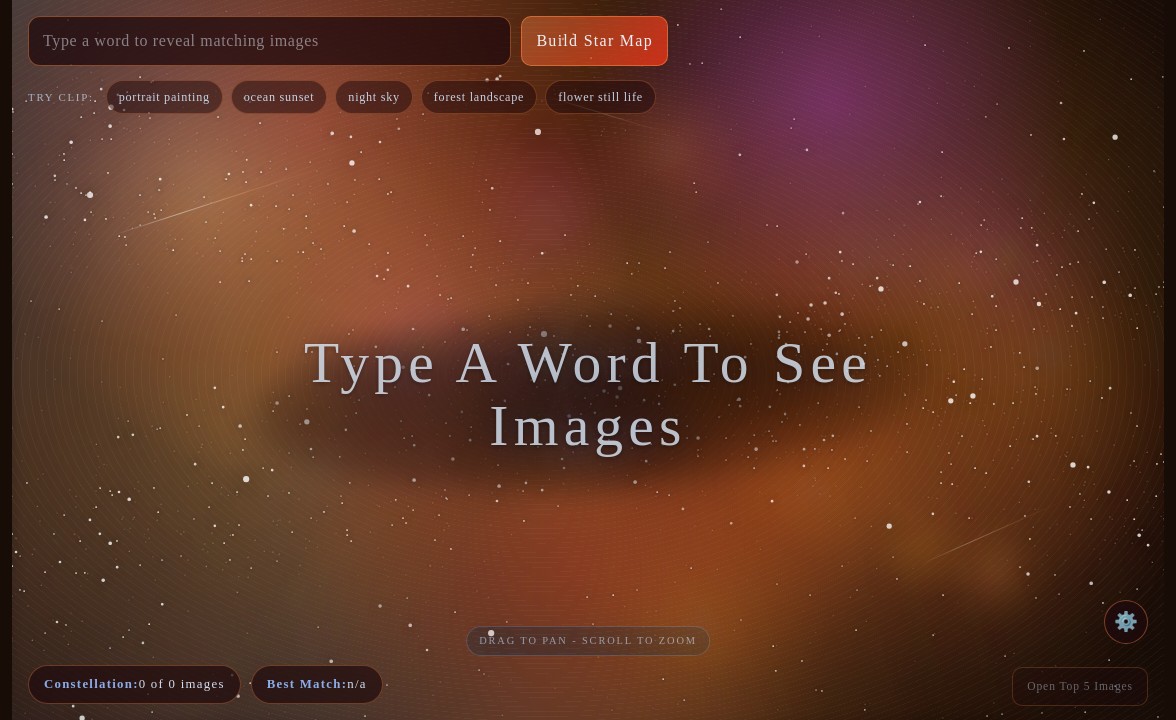
Test: StarView interactions › runs a suggested CLIP prompt from the atlas controls
Click the button "ocean sunset".
click(279, 97)  # box [231, 80, 327, 114]
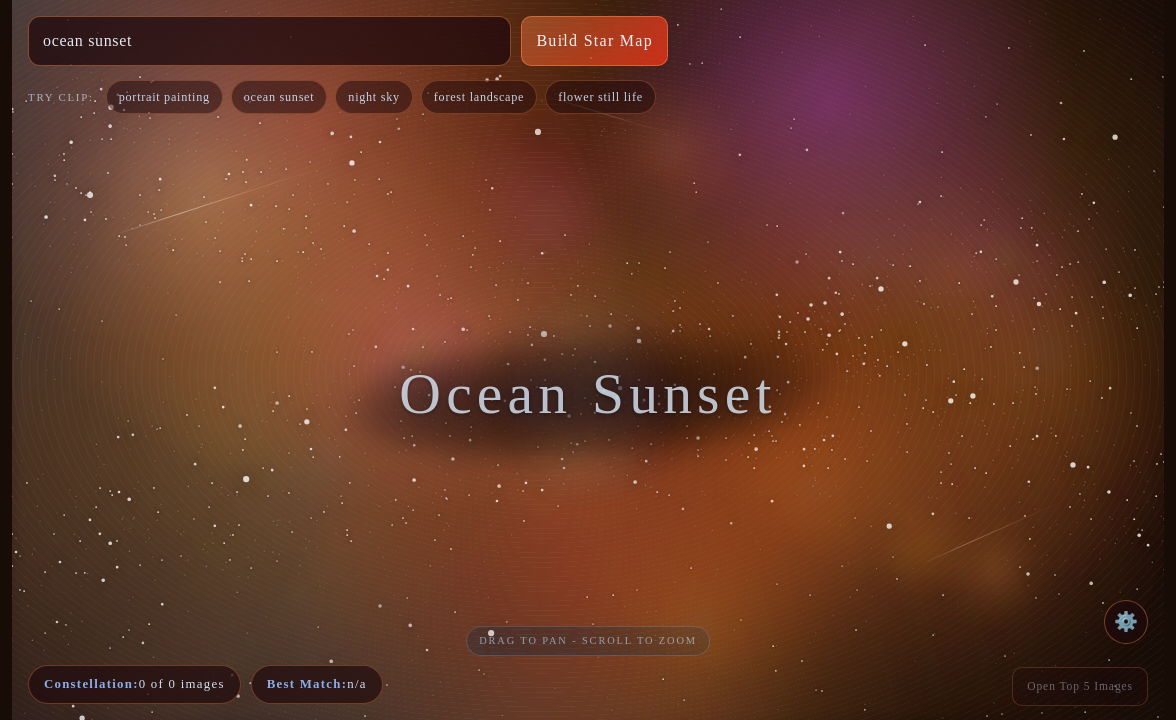
Result: the field with placeholder "Type a word to reveal matching images" holds "ocean sunset" at [28, 16, 511, 66]
